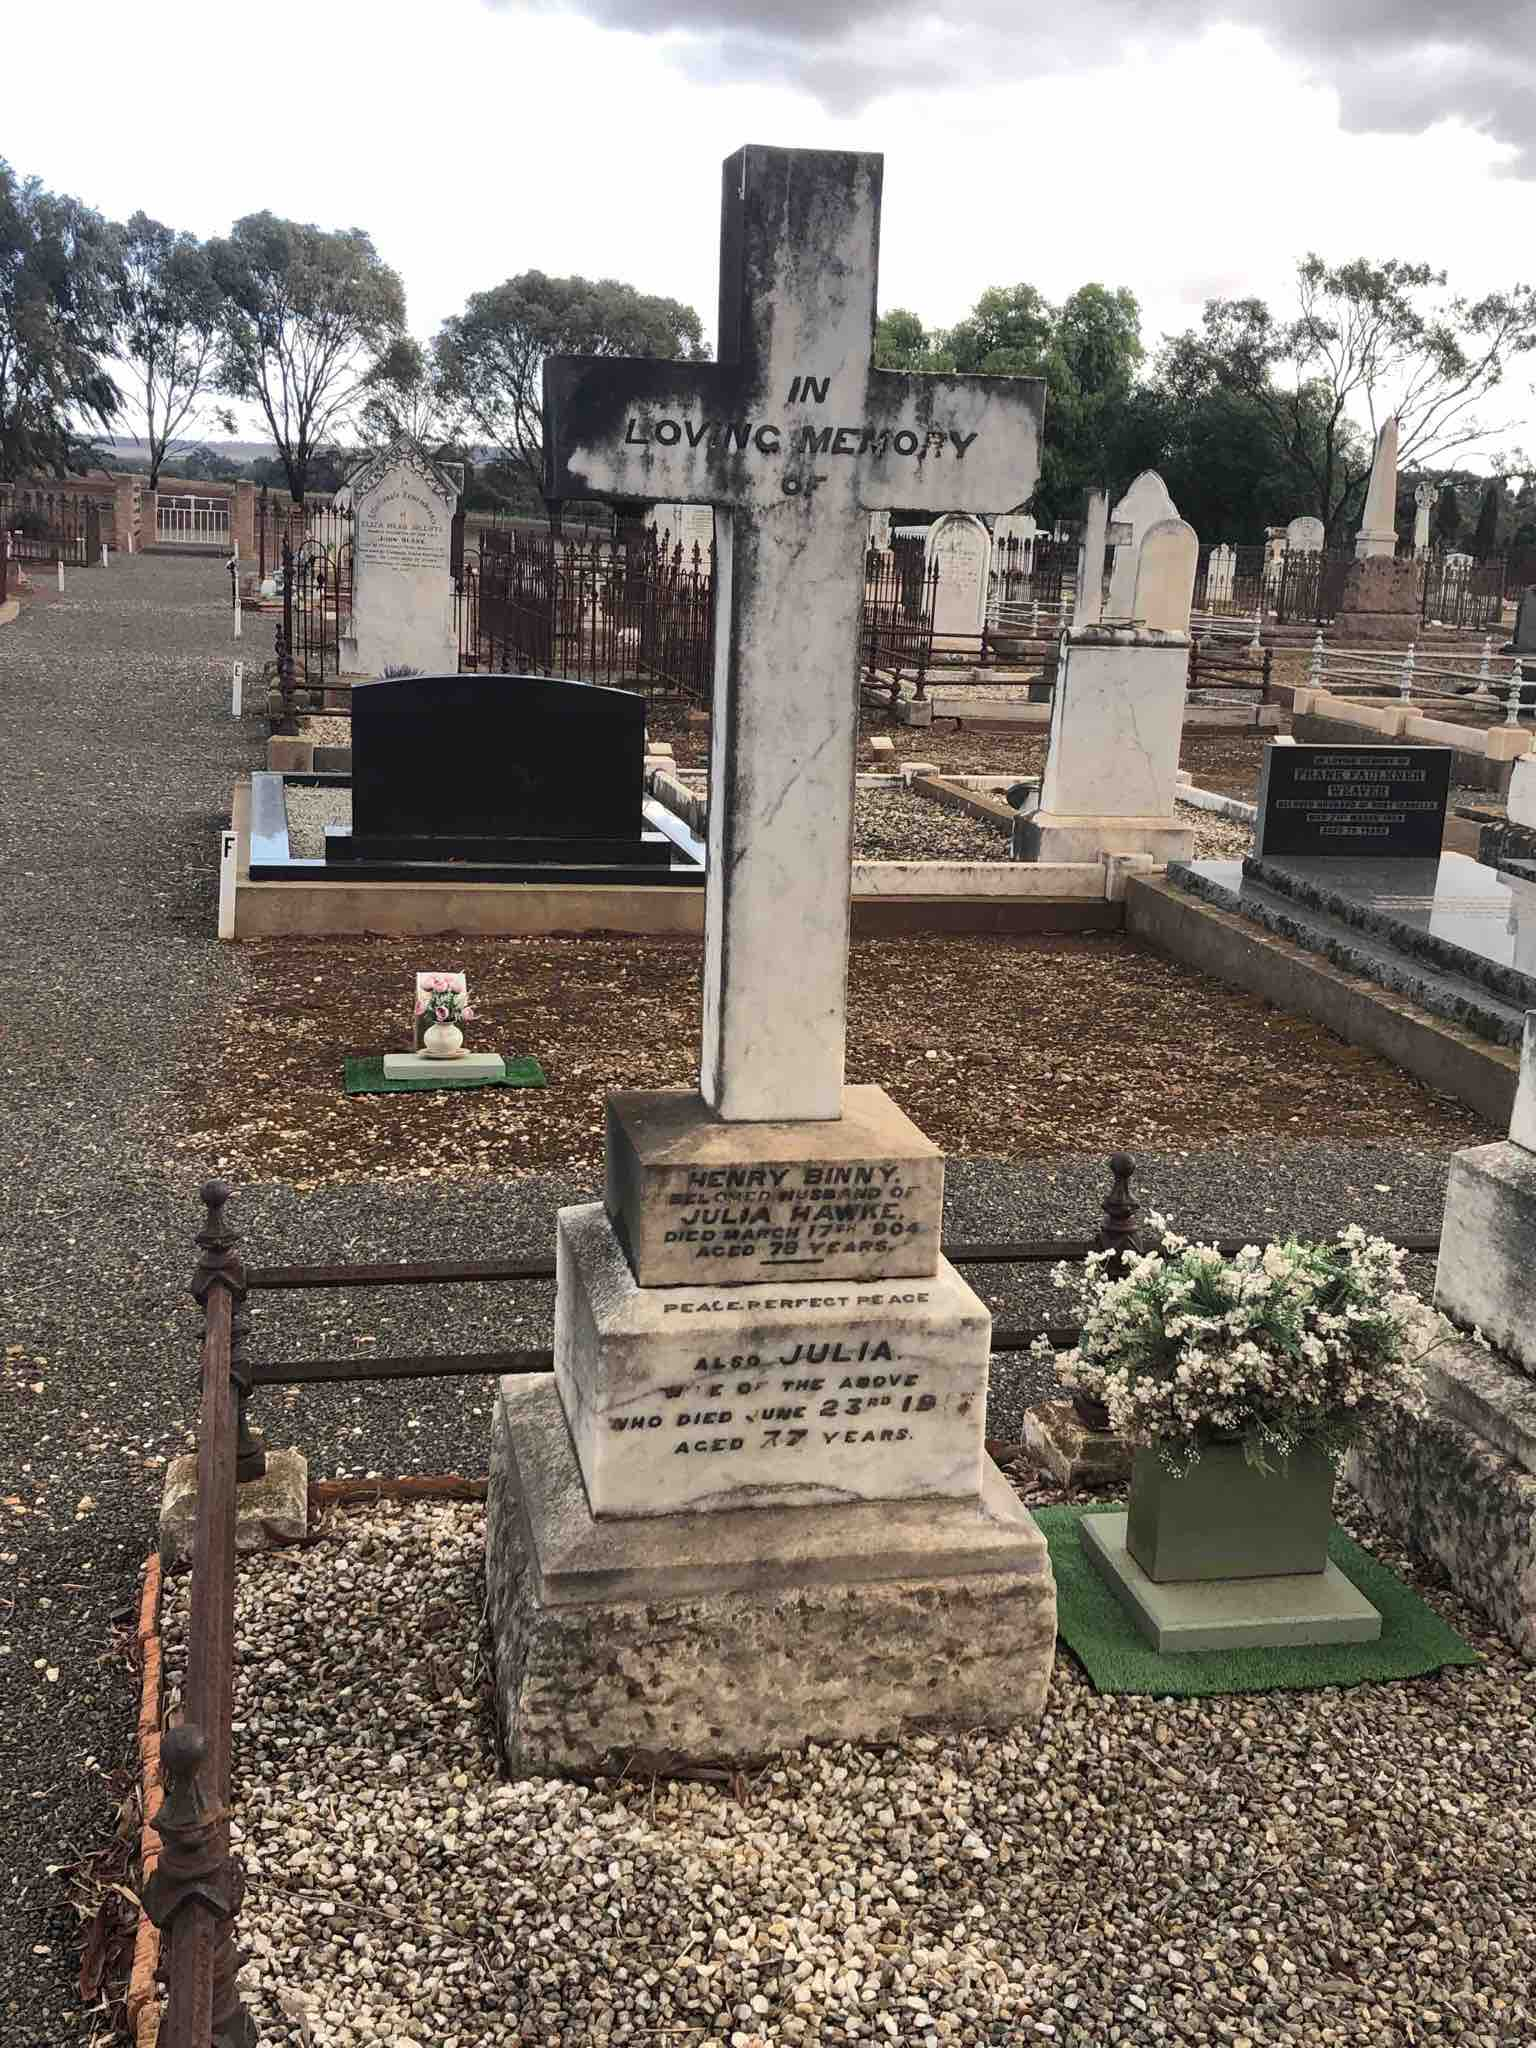upright: (476, 82, 1105, 1784)
